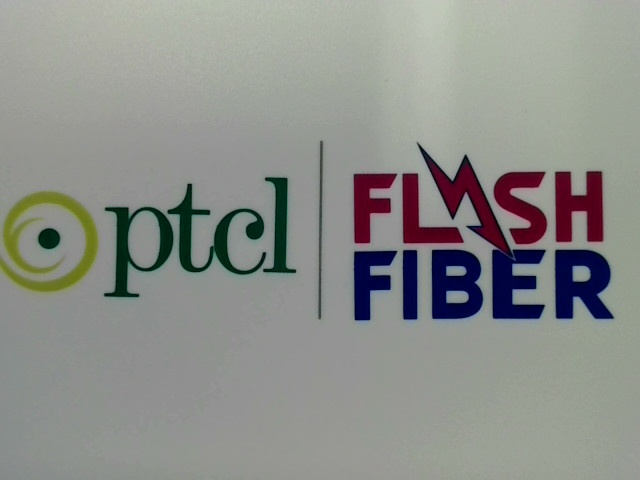BF_PTCL: (1, 169, 301, 300)
